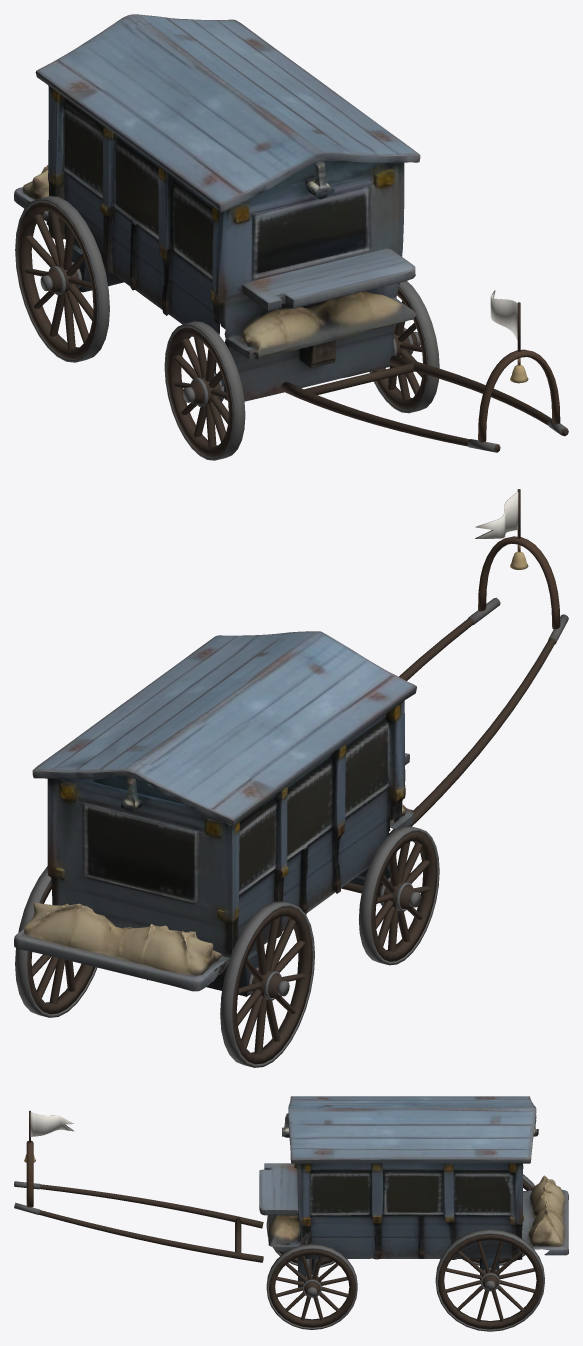
File: prop-wagon-shipment.glb
The picture shows the model from 3 angles, top to bottom: view 1: azimuth 30°, elevation 25°; view 2: azimuth 150°, elevation 25°; view 3: azimuth 270°, elevation 25°; orthographic projection. The views are drawn at different scales.
Visible parts, largest first — view 1: wagon-body, wagon-wheels-front, wagon-wheels-rear, wagon-harness; view 2: wagon-body, wagon-wheels-rear, wagon-wheels-front, wagon-harness; view 3: wagon-body, wagon-wheels-rear, wagon-harness, wagon-wheels-front.
Part boxes in pixels (x1,y1,x2,y2): wagon-body: [14, 14, 420, 401]; wagon-wheels-front: [164, 281, 439, 460]; wagon-wheels-rear: [15, 196, 109, 362]; wagon-harness: [281, 290, 568, 452]; wagon-body: [14, 631, 416, 996]; wagon-wheels-rear: [15, 866, 314, 1067]; wagon-wheels-front: [341, 826, 439, 965]; wagon-harness: [390, 489, 568, 833]; wagon-body: [259, 1096, 568, 1287]; wagon-wheels-rear: [435, 1174, 544, 1331]; wagon-harness: [14, 1110, 263, 1262]; wagon-wheels-front: [266, 1215, 357, 1329].
Size of the model in its own units: 1.79 by 2.06 by 5.48.
Materials: 2 (2 with a texture image).
